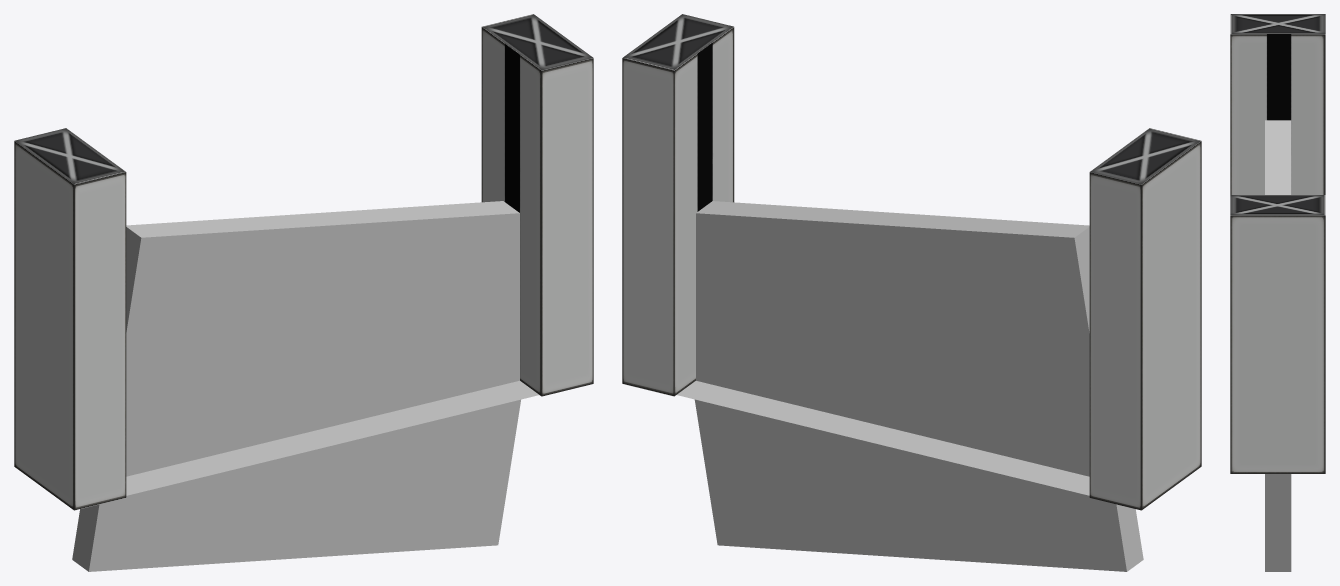
The model's file is doorWithSlide_UpdatedAnim2.fbx.
The picture shows the model from 3 angles, left to right: view 1: azimuth 30°, elevation 25°; view 2: azimuth 150°, elevation 25°; view 3: azimuth 270°, elevation 25°; orthographic projection. The views are drawn at different scales.
Parts seen in each view (by area): view 1: DoorMesh1, SingleWall4, SingleWall1, SlideFloor; view 2: DoorMesh1, SingleWall4, SingleWall1, SlideFloor; view 3: SingleWall1, SingleWall4, DoorMesh1.
Part boxes in pixels (box(x1,y1,x2,y2)): DoorMesh1: box(72, 201, 520, 571); SingleWall4: box(14, 128, 126, 510); SingleWall1: box(481, 14, 593, 396); SlideFloor: box(126, 380, 538, 495); DoorMesh1: box(694, 201, 1143, 571); SingleWall4: box(1089, 128, 1201, 510); SingleWall1: box(622, 14, 734, 396); SlideFloor: box(677, 381, 1089, 495); SingleWall1: box(1230, 195, 1325, 473); SingleWall4: box(1230, 14, 1325, 194); DoorMesh1: box(1265, 120, 1291, 571).
Bounding box in the file's own units: 5 × 4.47 × 1.
